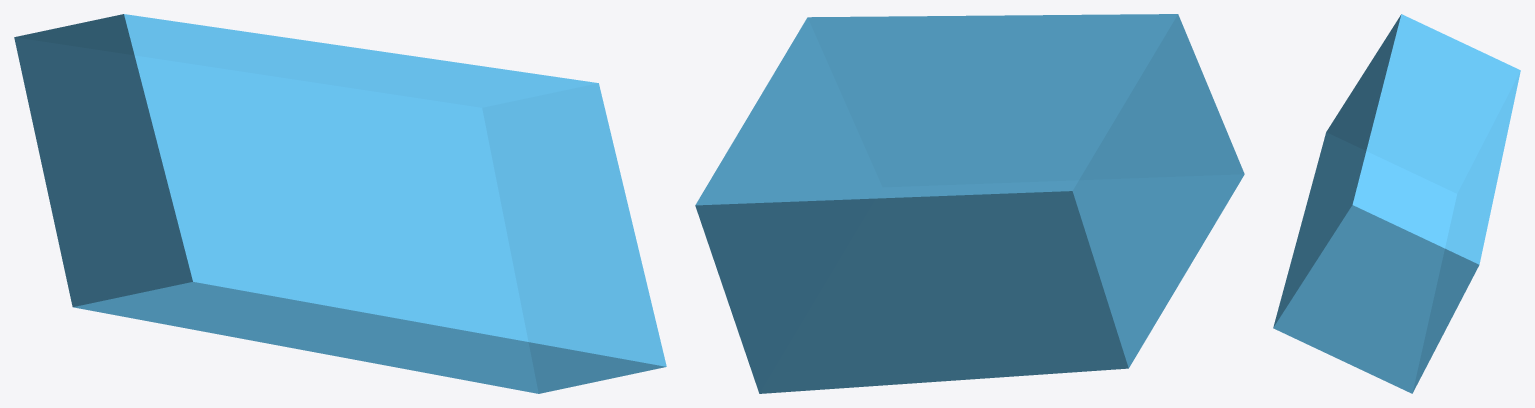
The model's file is Event_420094457_HErechit_68.fbx.
3 renders of one model, left to right at view 1: azimuth 30°, elevation 25°; view 2: azimuth 150°, elevation 25°; view 3: azimuth 270°, elevation 25°, orthographic. The views are drawn at different scales.
Visible parts, largest first — view 1: Model; view 2: Model; view 3: Model.
Part boxes in pixels (x1,y1,x2,y2): Model: (14, 14, 666, 393); Model: (695, 14, 1244, 393); Model: (1273, 14, 1520, 393).
Size of the model in its own units: 0.7023 by 0.7664 by 0.6441.
